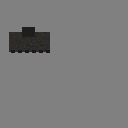armoured_vehicle: (9, 32, 50, 52)
